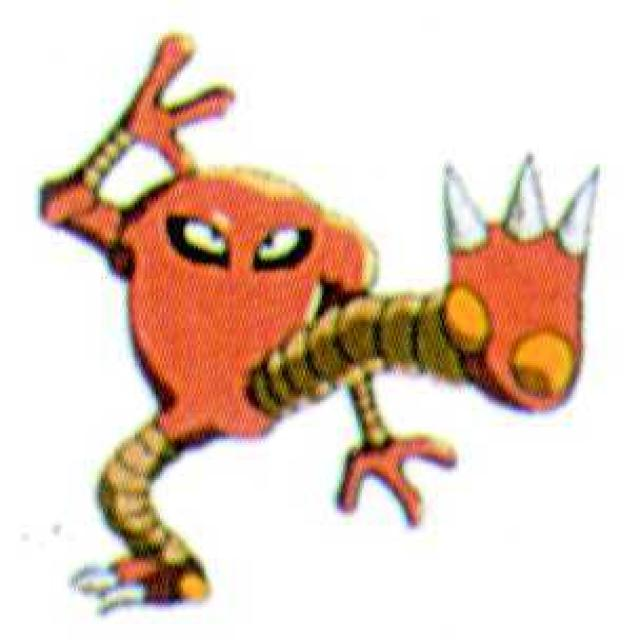Hitmonlee: (38, 66, 494, 592)
